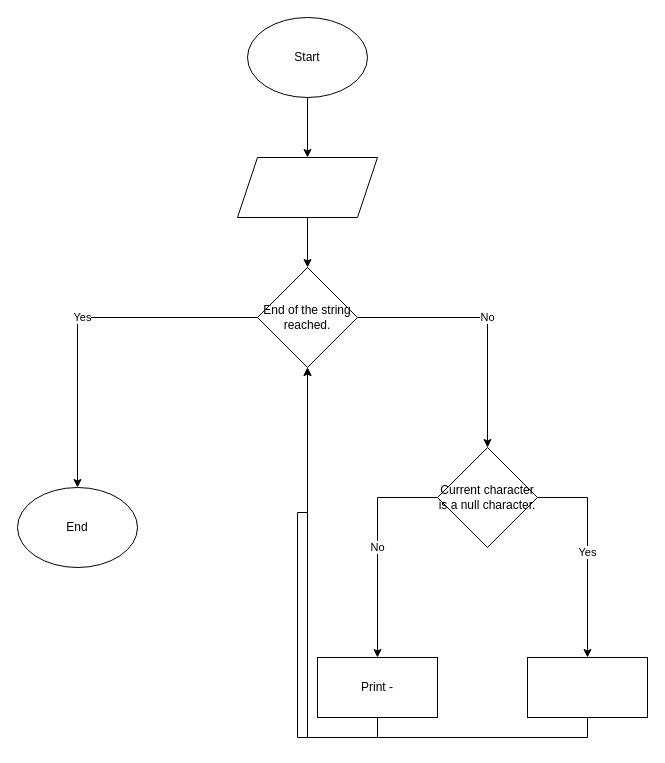
This 665x763 diagram has some shape labels left out. Each missing label, with the box of its shape:
Print $: (526, 656, 648, 718)
Take string as input.: (236, 156, 378, 218)
